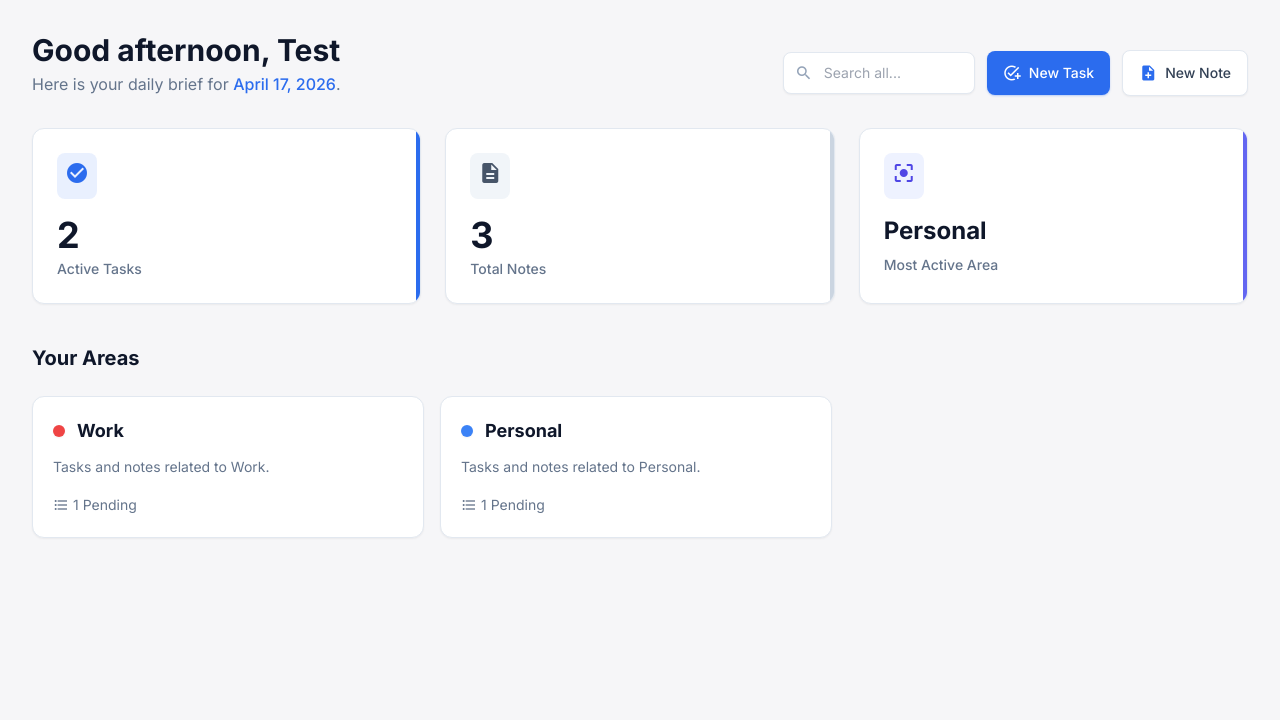
Test: Dashboard Page › displays no results message
Type "nonexistent" into the field with placeholder "Search all..." at (879, 73), box [783,52,975,94]
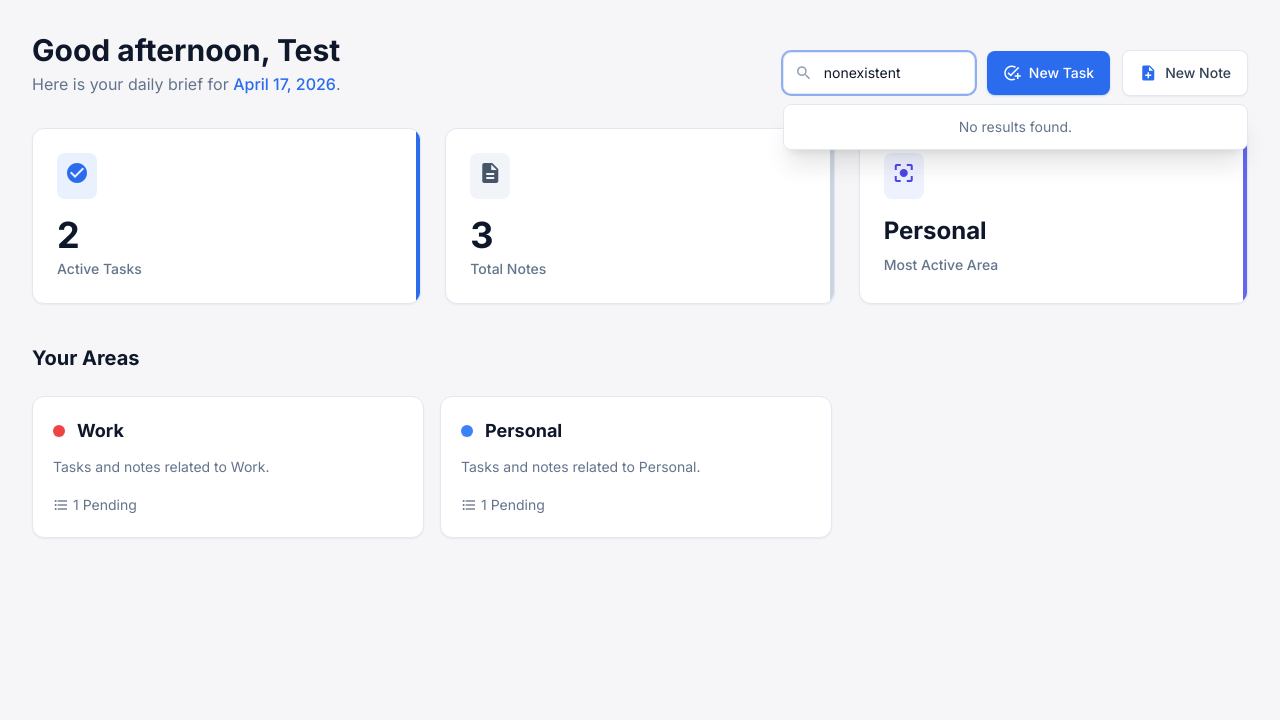
Result: the text "No results found." is shown at [783,104,1248,150]
